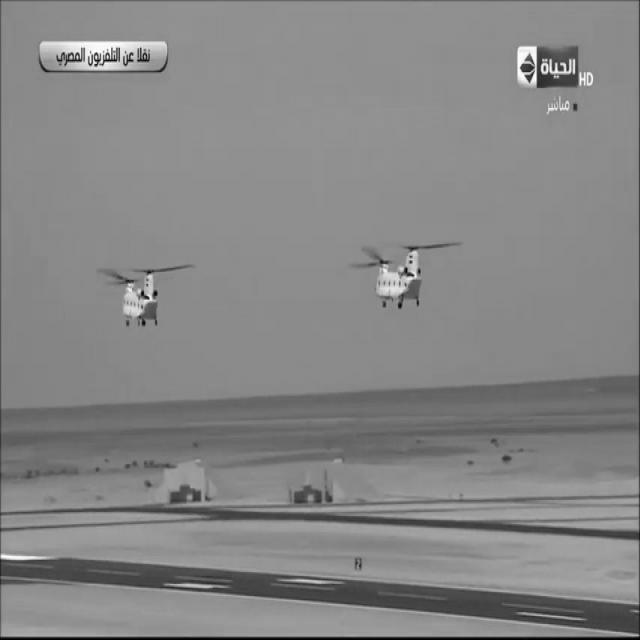helikopter: (339, 212, 466, 338), (98, 240, 202, 339)
